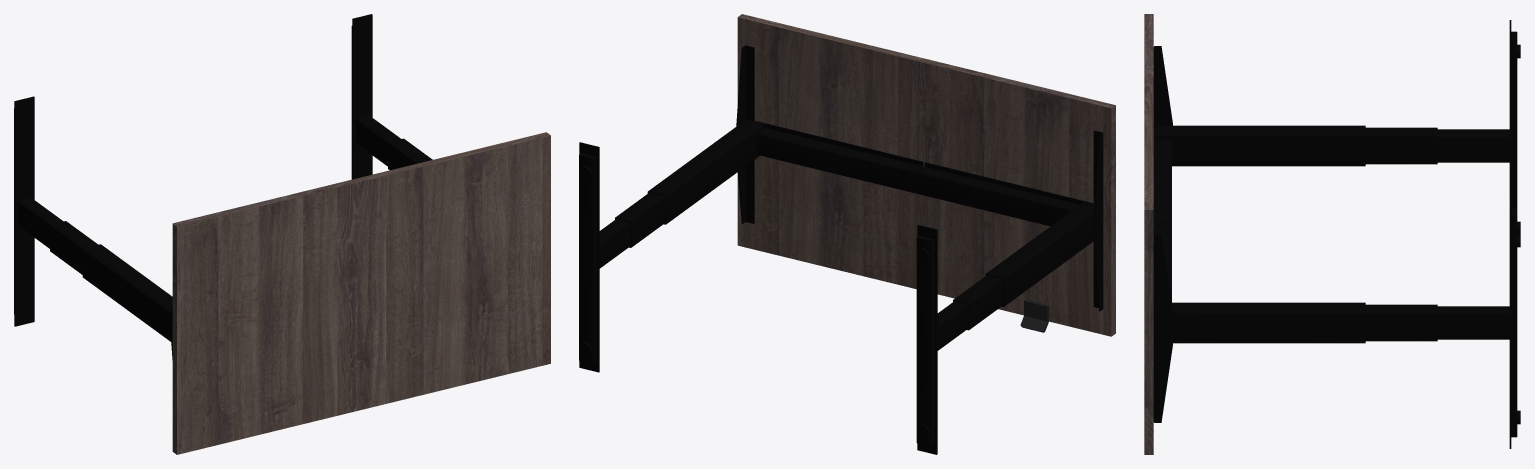
The model's file is advance_desk_split.obj.
3 renders of one model, left to right at view 1: azimuth 30°, elevation 25°; view 2: azimuth 150°, elevation 25°; view 3: azimuth 270°, elevation 25°, orthographic. The views are drawn at different scales.
Visible parts, largest first — view 1: 1b69d3ac_b93a_4182_86b5_333d6e99d0dd, b177267a_1260_4ca7_a97f_50f767cb6183; view 2: 1b69d3ac_b93a_4182_86b5_333d6e99d0dd, b177267a_1260_4ca7_a97f_50f767cb6183, e04a8809_3463_479b_8469_9a66993b63bc; view 3: b177267a_1260_4ca7_a97f_50f767cb6183, 1b69d3ac_b93a_4182_86b5_333d6e99d0dd.
Boxes of the visible parts, left/top/right/bottom form: 1b69d3ac_b93a_4182_86b5_333d6e99d0dd: left=172, top=132, right=550, bottom=454; b177267a_1260_4ca7_a97f_50f767cb6183: left=14, top=14, right=432, bottom=359; 1b69d3ac_b93a_4182_86b5_333d6e99d0dd: left=737, top=14, right=1115, bottom=336; b177267a_1260_4ca7_a97f_50f767cb6183: left=579, top=45, right=1103, bottom=454; e04a8809_3463_479b_8469_9a66993b63bc: left=1020, top=299, right=1049, bottom=332; b177267a_1260_4ca7_a97f_50f767cb6183: left=1153, top=20, right=1520, bottom=448; 1b69d3ac_b93a_4182_86b5_333d6e99d0dd: left=1144, top=14, right=1153, bottom=454.
Size of the model in its own units: 1200 by 725 by 975.
